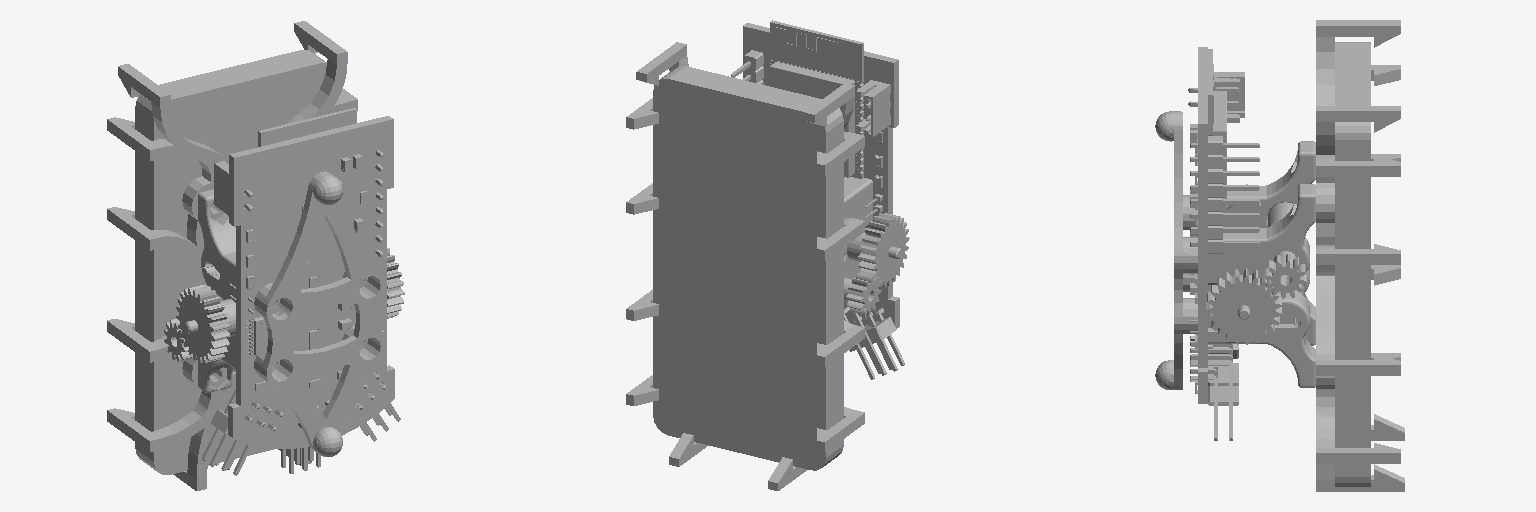
robot.urdf — root:
<?xml version='1.0' encoding='utf-8'?>
<robot name="root">
  <link name="link_001">
    <visual>
      <origin xyz="0 0 0" rpy="0 0 0" />
      <geometry>
        <mesh filename="45aee80a9e0e4ac959ff2526606956dc7ddd18466de535848d1cfd36efbe3f02_scale_000.stl" scale="1.0000E+00 1.0000E+00 1.0000E+00" />
      </geometry>
      <material name="">
        <color rgba="7.50E-01 7.50E-01 7.50E-01 1" />
      </material>
    </visual>
    <collision>
      <origin xyz="0 0 0" rpy="0 0 0" />
      <geometry>
        <mesh filename="45aee80a9e0e4ac959ff2526606956dc7ddd18466de535848d1cfd36efbe3f02_scale_000.stl" scale="1.0000E+00 1.0000E+00 1.0000E+00" />
      </geometry>
    </collision>
  </link>
</robot>

--- What the picture shows (computed from the rendered views, not written in the file) ---
3 views of the same robot in one strip: view 1: azimuth 30°, elevation 25°; view 2: azimuth 150°, elevation 25°; view 3: azimuth 270°, elevation 25° (orthographic).
Robot: root — 1 links, 0 joints (none); root link link_001; default pose: every joint at zero.
Visible links, largest first — view 1: link_001; view 2: link_001; view 3: link_001.
Link boxes in pixels (bbox=[...]): link_001: bbox=[107, 21, 404, 490]; link_001: bbox=[626, 20, 909, 490]; link_001: bbox=[1155, 20, 1404, 491].
Size in the robot's own frame: 0.0649 by 0.0681 by 0.1198 metres.
1 mesh visuals loaded from 1 distinct referenced files (1 binary STL).
